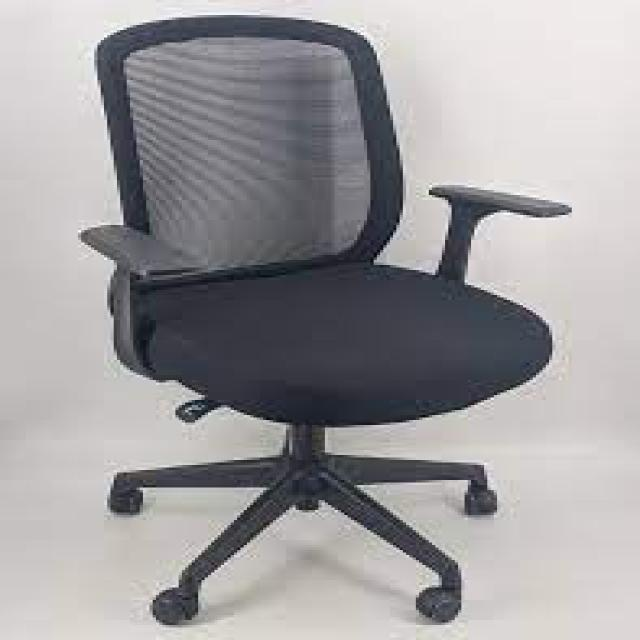chair: (24, 4, 639, 640)
